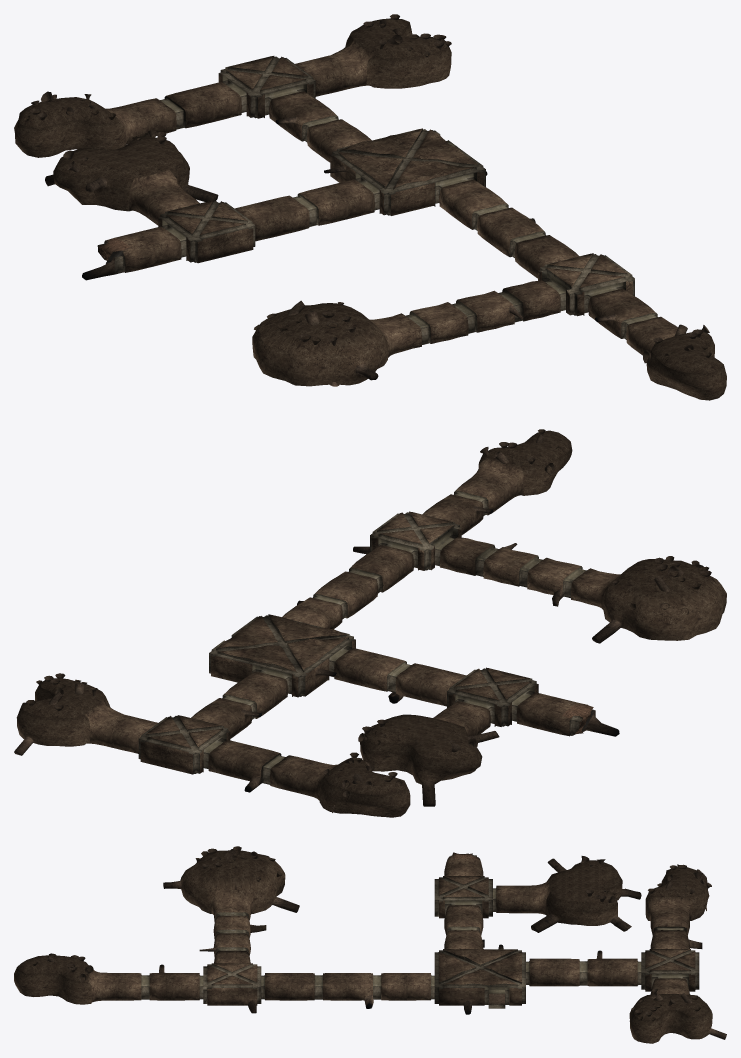
The picture shows the model from 3 angles, top to bottom: view 1: azimuth 30°, elevation 25°; view 2: azimuth 150°, elevation 25°; view 3: azimuth 270°, elevation 25°; orthographic projection. The views are drawn at different scales.
Visible parts, largest first — view 1: Chunk-85_Mesh-0, Chunk-82_Mesh-0, Chunk-69_Mesh-0, Chunk-80_Mesh-0, Chunk-102_Mesh-0, Chunk-94_Mesh-0, Chunk-89_Mesh-0, Chunk-100_Mesh-0, Chunk-62_Mesh-0, Chunk-44_Mesh-0, Chunk-65_Mesh-0, Chunk-96_Mesh-0 (+33 smaller); view 2: Chunk-85_Mesh-0, Chunk-82_Mesh-0, Chunk-69_Mesh-0, Chunk-80_Mesh-0, Chunk-102_Mesh-0, Chunk-100_Mesh-0, Chunk-89_Mesh-0, Chunk-94_Mesh-0, Chunk-62_Mesh-0, Chunk-44_Mesh-0, Chunk-65_Mesh-0, Chunk-96_Mesh-0 (+33 smaller); view 3: Chunk-82_Mesh-0, Chunk-85_Mesh-0, Chunk-69_Mesh-0, Chunk-102_Mesh-0, Chunk-89_Mesh-0, Chunk-100_Mesh-0, Chunk-105_Mesh-0, Chunk-84_Mesh-0, Chunk-80_Mesh-0, Chunk-57_Mesh-0, Chunk-52_Mesh-0, Chunk-65_Mesh-0 (+31 smaller).
Part boxes in pixels (<box>): Chunk-85_Mesh-0: <box>369,280,560,357</box>; Chunk-82_Mesh-0: <box>255,303,382,361</box>; Chunk-69_Mesh-0: <box>338,128,477,188</box>; Chunk-80_Mesh-0: <box>252,328,387,386</box>; Chunk-102_Mesh-0: <box>56,136,182,184</box>; Chunk-94_Mesh-0: <box>14,118,124,157</box>; Chunk-89_Mesh-0: <box>343,22,451,88</box>; Chunk-100_Mesh-0: <box>53,146,189,211</box>; Chunk-62_Mesh-0: <box>262,186,348,234</box>; Chunk-44_Mesh-0: <box>129,88,215,136</box>; Chunk-65_Mesh-0: <box>330,129,485,215</box>; Chunk-96_Mesh-0: <box>17,97,118,133</box>; Chunk-85_Mesh-0: <box>440,537,620,609</box>; Chunk-82_Mesh-0: <box>605,559,723,617</box>; Chunk-69_Mesh-0: <box>216,614,348,671</box>; Chunk-80_Mesh-0: <box>603,585,726,640</box>; Chunk-102_Mesh-0: <box>366,714,477,762</box>; Chunk-100_Mesh-0: <box>360,728,482,784</box>; Chunk-89_Mesh-0: <box>16,684,111,746</box>; Chunk-94_Mesh-0: <box>319,777,410,817</box>; Chunk-62_Mesh-0: <box>359,654,440,700</box>; Chunk-44_Mesh-0: <box>233,746,314,792</box>; Chunk-65_Mesh-0: <box>209,614,355,697</box>; Chunk-96_Mesh-0: <box>323,757,407,798</box>; Chunk-82_Mesh-0: <box>184,850,282,894</box>; Chunk-85_Mesh-0: <box>209,884,255,963</box>; Chunk-69_Mesh-0: <box>439,949,521,985</box>; Chunk-102_Mesh-0: <box>549,860,619,906</box>; Chunk-89_Mesh-0: <box>629,1004,712,1043</box>; Chunk-100_Mesh-0: <box>546,874,622,925</box>; Chunk-105_Mesh-0: <box>14,963,91,1004</box>; Chunk-84_Mesh-0: <box>207,963,257,1005</box>; Chunk-80_Mesh-0: <box>180,866,285,913</box>; Chunk-57_Mesh-0: <box>554,958,612,986</box>; Chunk-52_Mesh-0: <box>116,972,174,1000</box>; Chunk-65_Mesh-0: <box>434,949,525,1008</box>.
Size of the model in its own units: 10567 by 1590 by 17157.
13 materials, 13 textured.
